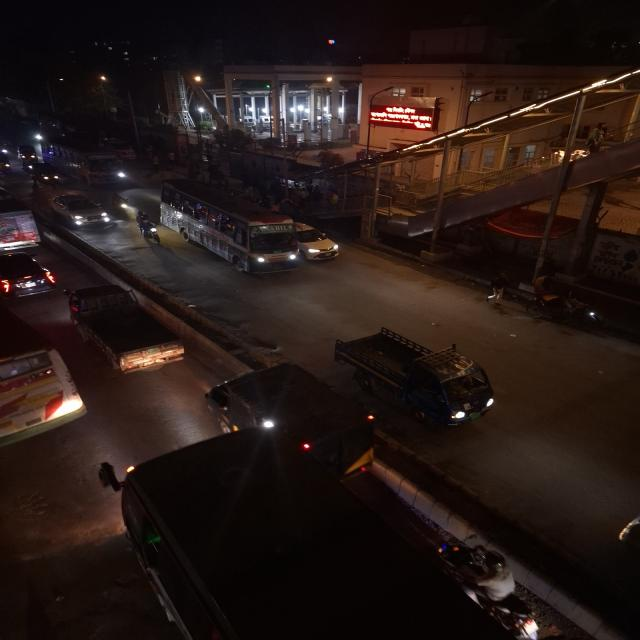bus: (160, 176, 302, 278), (0, 289, 81, 443), (52, 140, 129, 187), (0, 183, 42, 255)
car: (0, 248, 59, 300), (49, 191, 113, 233), (297, 220, 341, 264)
cng: (24, 160, 64, 186), (16, 144, 36, 161)
motorcycle: (430, 532, 562, 640), (132, 210, 162, 246)
pedestrian: (482, 271, 514, 306)
pickup_van: (329, 323, 513, 432), (67, 282, 192, 378)
rickshaw: (516, 279, 604, 329)
